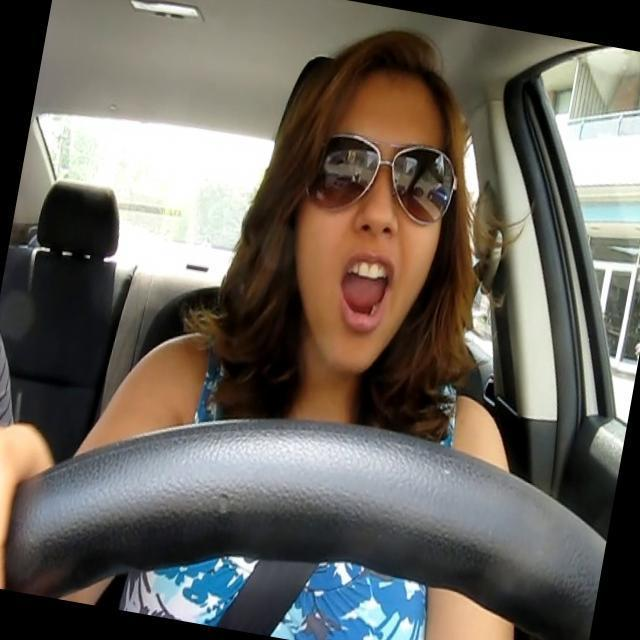open-mouth: (339, 254, 392, 328)
